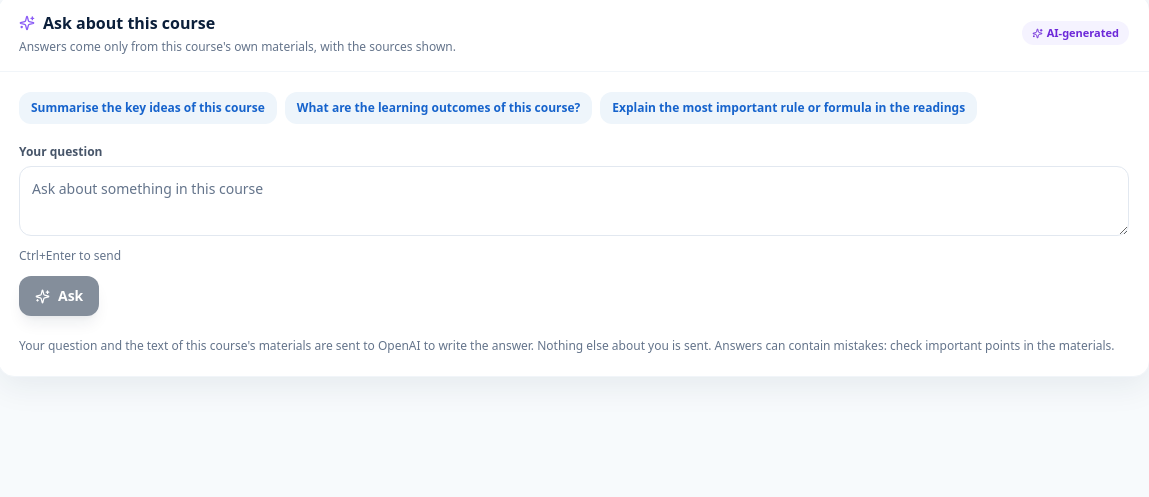
Scenario: course assistant › answers a suggested question with the sources it used
This screenshot has width=1149, height=497.
Click the button "Summarise the key ideas of this course" at (148, 108), box [19,92,277,124]
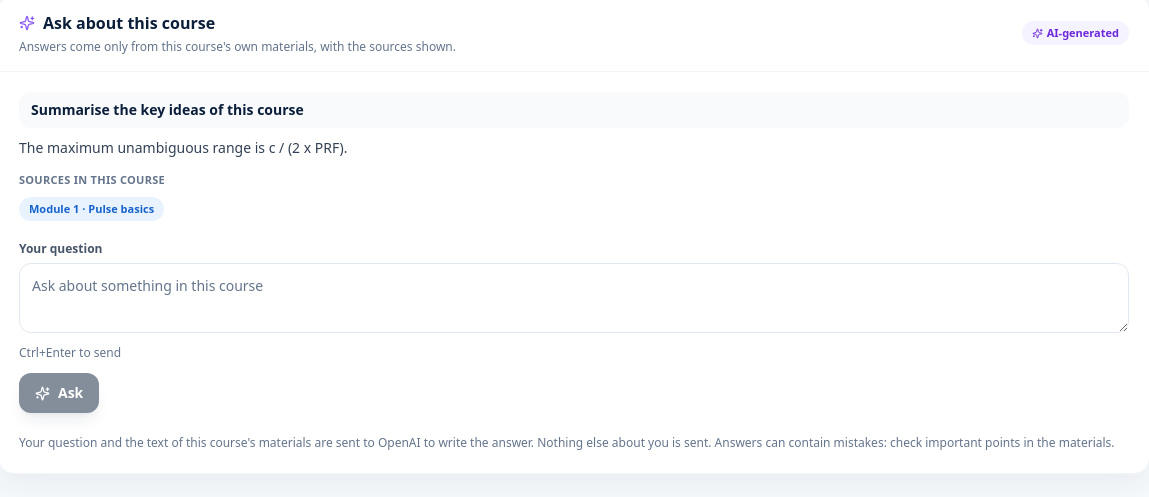
Expected: the text "The maximum unambiguous range is c / (2 x PRF)." is shown, [19,138,348,157]
Expected: the text "Module 1 · Pulse basics" is shown, [19,196,164,221]
